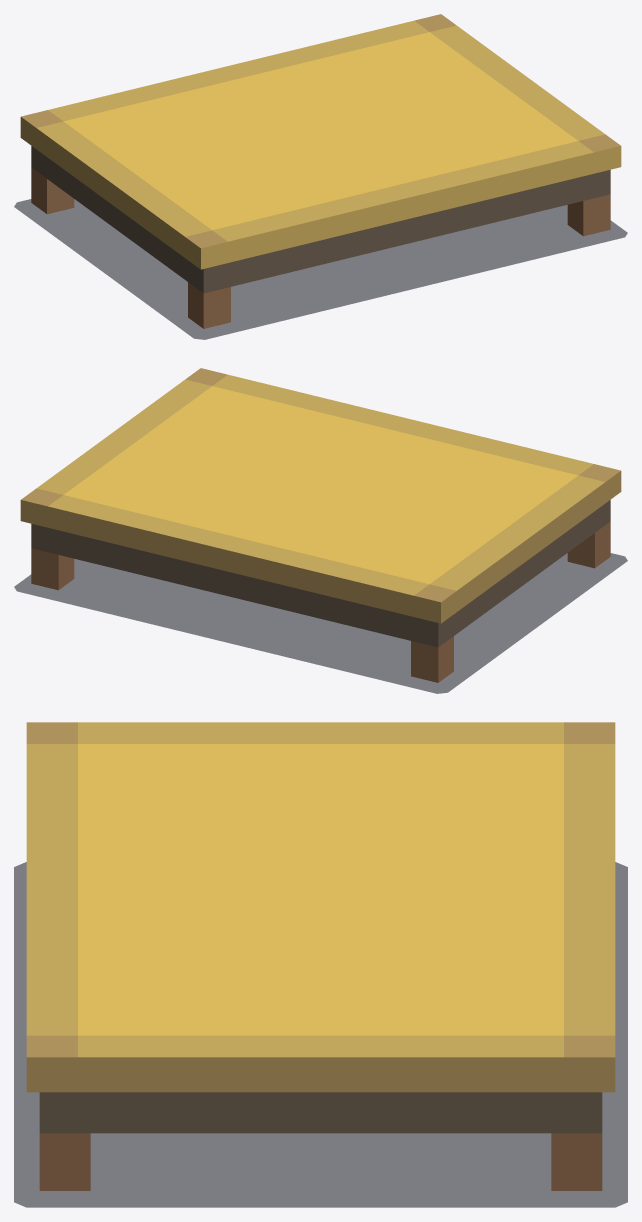
File: modelo.obj
The picture shows the model from 3 angles, top to bottom: view 1: azimuth 30°, elevation 25°; view 2: azimuth 150°, elevation 25°; view 3: azimuth 270°, elevation 25°; orthographic projection. The views are drawn at different scales.
Parts seen in each view (by area): view 1: polygon1, polygon0; view 2: polygon1, polygon0; view 3: polygon1, polygon0.
Boxes of the visible parts, x1,y1,x2,y2 form: polygon1: (20, 14, 621, 328); polygon0: (14, 199, 627, 339); polygon1: (20, 368, 621, 682); polygon0: (14, 553, 627, 693); polygon1: (26, 722, 615, 1190); polygon0: (14, 862, 627, 1207).
Bounding box in the file's own units: 64 × 12.5 × 48.
2 materials, 2 textured.
